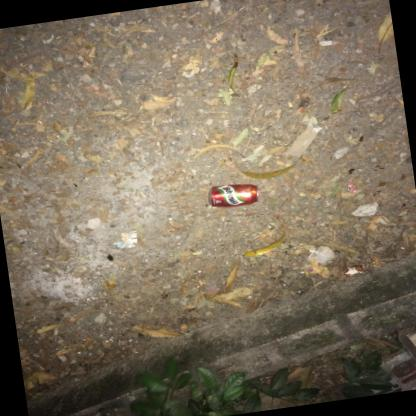Metal: (207, 183, 258, 206)
